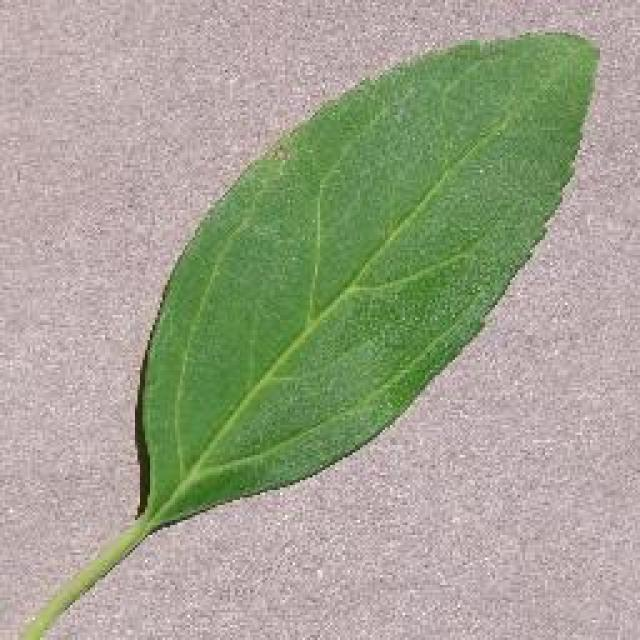Cher_including_sour_healthy: (186, 110, 506, 471)
